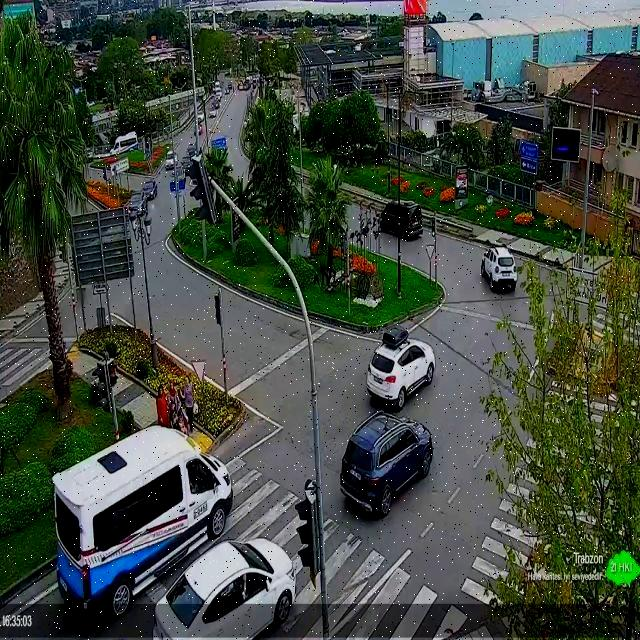Car: (153, 535, 299, 640), (339, 408, 435, 515), (365, 326, 437, 412), (481, 246, 518, 292)
Van: (50, 426, 232, 614), (379, 200, 425, 242), (108, 132, 139, 154)
